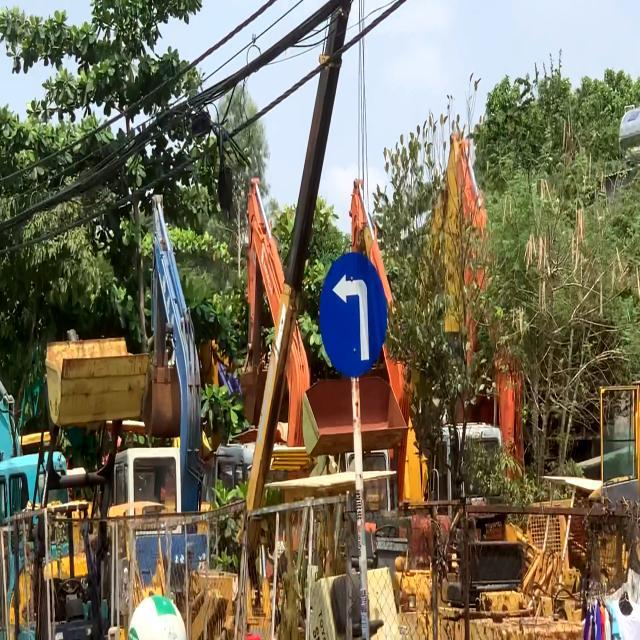R-301e: (321, 250, 385, 376)
